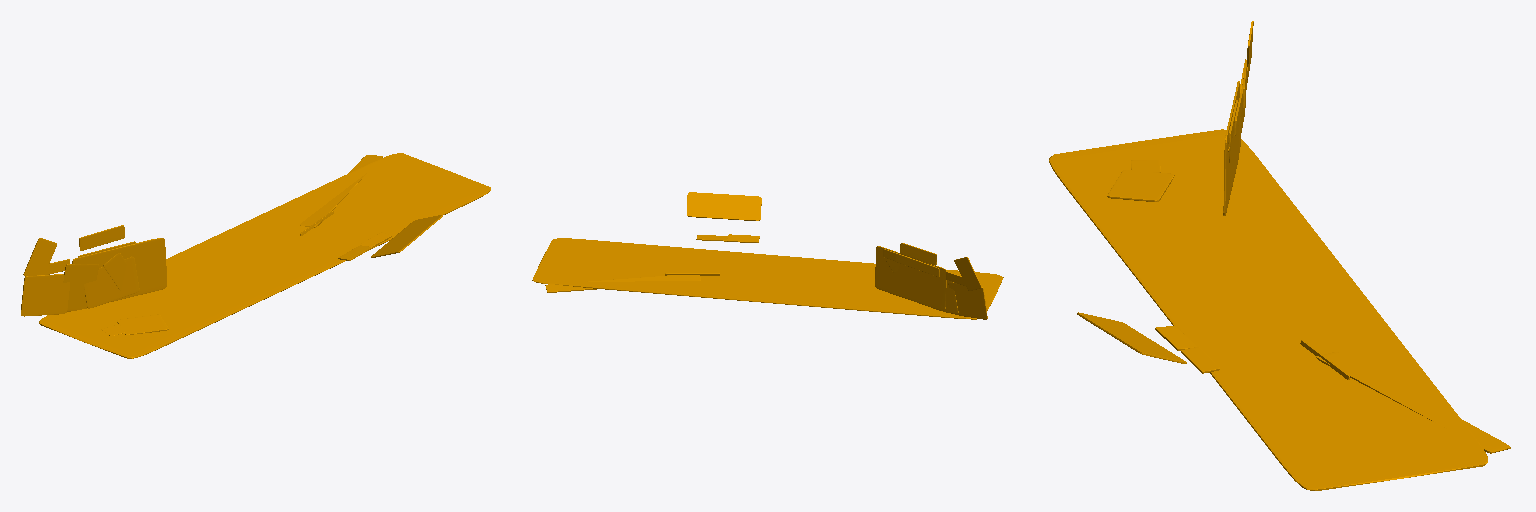
The robot description file, URDF, robot "scene":
<?xml version='1.0' encoding='utf-8'?>
<robot name="scene"><link name="scene_link"><visual><origin xyz="0.000000 0.000000 0.000000" rpy="0.000000 -0.000000 0.000000" /><geometry><mesh filename="part_000.obj" /></geometry></visual><collision><origin xyz="0.000000 0.000000 0.000000" rpy="0.000000 -0.000000 0.000000" /><geometry><mesh filename="part_000.obj" /></geometry></collision><visual><origin xyz="0.000000 0.000000 0.000000" rpy="0.000000 -0.000000 0.000000" /><geometry><mesh filename="part_001.obj" /></geometry></visual><collision><origin xyz="0.000000 0.000000 0.000000" rpy="0.000000 -0.000000 0.000000" /><geometry><mesh filename="part_001.obj" /></geometry></collision><visual><origin xyz="0.000000 0.000000 0.000000" rpy="0.000000 -0.000000 0.000000" /><geometry><mesh filename="part_002.obj" /></geometry></visual><collision><origin xyz="0.000000 0.000000 0.000000" rpy="0.000000 -0.000000 0.000000" /><geometry><mesh filename="part_002.obj" /></geometry></collision><visual><origin xyz="0.000000 0.000000 0.000000" rpy="0.000000 -0.000000 0.000000" /><geometry><mesh filename="part_003.obj" /></geometry></visual><collision><origin xyz="0.000000 0.000000 0.000000" rpy="0.000000 -0.000000 0.000000" /><geometry><mesh filename="part_003.obj" /></geometry></collision><visual><origin xyz="0.000000 0.000000 0.000000" rpy="0.000000 -0.000000 0.000000" /><geometry><mesh filename="part_004.obj" /></geometry></visual><collision><origin xyz="0.000000 0.000000 0.000000" rpy="0.000000 -0.000000 0.000000" /><geometry><mesh filename="part_004.obj" /></geometry></collision><visual><origin xyz="0.000000 0.000000 0.000000" rpy="0.000000 -0.000000 0.000000" /><geometry><mesh filename="part_005.obj" /></geometry></visual><collision><origin xyz="0.000000 0.000000 0.000000" rpy="0.000000 -0.000000 0.000000" /><geometry><mesh filename="part_005.obj" /></geometry></collision><visual><origin xyz="0.000000 0.000000 0.000000" rpy="0.000000 -0.000000 0.000000" /><geometry><mesh filename="part_006.obj" /></geometry></visual><collision><origin xyz="0.000000 0.000000 0.000000" rpy="0.000000 -0.000000 0.000000" /><geometry><mesh filename="part_006.obj" /></geometry></collision><visual><origin xyz="0.000000 0.000000 0.000000" rpy="0.000000 -0.000000 0.000000" /><geometry><mesh filename="part_007.obj" /></geometry></visual><collision><origin xyz="0.000000 0.000000 0.000000" rpy="0.000000 -0.000000 0.000000" /><geometry><mesh filename="part_007.obj" /></geometry></collision><visual><origin xyz="0.000000 0.000000 0.000000" rpy="0.000000 -0.000000 0.000000" /><geometry><mesh filename="part_008.obj" /></geometry></visual><collision><origin xyz="0.000000 0.000000 0.000000" rpy="0.000000 -0.000000 0.000000" /><geometry><mesh filename="part_008.obj" /></geometry></collision><visual><origin xyz="0.000000 0.000000 0.000000" rpy="0.000000 -0.000000 0.000000" /><geometry><mesh filename="part_009.obj" /></geometry></visual><collision><origin xyz="0.000000 0.000000 0.000000" rpy="0.000000 -0.000000 0.000000" /><geometry><mesh filename="part_009.obj" /></geometry></collision><visual><origin xyz="0.000000 0.000000 0.000000" rpy="0.000000 -0.000000 0.000000" /><geometry><mesh filename="part_010.obj" /></geometry></visual><collision><origin xyz="0.000000 0.000000 0.000000" rpy="0.000000 -0.000000 0.000000" /><geometry><mesh filename="part_010.obj" /></geometry></collision><visual><origin xyz="0.000000 0.000000 0.000000" rpy="0.000000 -0.000000 0.000000" /><geometry><mesh filename="part_011.obj" /></geometry></visual><collision><origin xyz="0.000000 0.000000 0.000000" rpy="0.000000 -0.000000 0.000000" /><geometry><mesh filename="part_011.obj" /></geometry></collision><visual><origin xyz="0.000000 0.000000 0.000000" rpy="0.000000 -0.000000 0.000000" /><geometry><mesh filename="part_012.obj" /></geometry></visual><collision><origin xyz="0.000000 0.000000 0.000000" rpy="0.000000 -0.000000 0.000000" /><geometry><mesh filename="part_012.obj" /></geometry></collision><visual><origin xyz="0.000000 0.000000 0.000000" rpy="0.000000 -0.000000 0.000000" /><geometry><mesh filename="part_013.obj" /></geometry></visual><collision><origin xyz="0.000000 0.000000 0.000000" rpy="0.000000 -0.000000 0.000000" /><geometry><mesh filename="part_013.obj" /></geometry></collision><visual><origin xyz="0.000000 0.000000 0.000000" rpy="0.000000 -0.000000 0.000000" /><geometry><mesh filename="part_014.obj" /></geometry></visual><collision><origin xyz="0.000000 0.000000 0.000000" rpy="0.000000 -0.000000 0.000000" /><geometry><mesh filename="part_014.obj" /></geometry></collision><visual><origin xyz="0.000000 0.000000 0.000000" rpy="0.000000 -0.000000 0.000000" /><geometry><mesh filename="part_015.obj" /></geometry></visual><collision><origin xyz="0.000000 0.000000 0.000000" rpy="0.000000 -0.000000 0.000000" /><geometry><mesh filename="part_015.obj" /></geometry></collision><visual><origin xyz="0.000000 0.000000 0.000000" rpy="0.000000 -0.000000 0.000000" /><geometry><mesh filename="part_016.obj" /></geometry></visual><collision><origin xyz="0.000000 0.000000 0.000000" rpy="0.000000 -0.000000 0.000000" /><geometry><mesh filename="part_016.obj" /></geometry></collision><visual><origin xyz="0.000000 0.000000 0.000000" rpy="0.000000 -0.000000 0.000000" /><geometry><mesh filename="part_017.obj" /></geometry></visual><collision><origin xyz="0.000000 0.000000 0.000000" rpy="0.000000 -0.000000 0.000000" /><geometry><mesh filename="part_017.obj" /></geometry></collision><visual><origin xyz="0.000000 0.000000 0.000000" rpy="0.000000 -0.000000 0.000000" /><geometry><mesh filename="part_018.obj" /></geometry></visual><collision><origin xyz="0.000000 0.000000 0.000000" rpy="0.000000 -0.000000 0.000000" /><geometry><mesh filename="part_018.obj" /></geometry></collision></link></robot>

--- Facts derived from the render (not from the file) ---
The picture shows the robot from 3 angles, left to right: view 1: azimuth 30°, elevation 25°; view 2: azimuth 150°, elevation 25°; view 3: azimuth 270°, elevation 25°; orthographic projection.
Model scene with 1 links and 0 joints (none), rooted at scene_link, posed all joints at 0.
Links seen in each view (by area): view 1: scene_link; view 2: scene_link; view 3: scene_link.
Boxes of the visible links, <box> form: scene_link: <box>21,153,490,358</box>; scene_link: <box>532,192,1003,319</box>; scene_link: <box>1049,21,1510,490</box>.
Size in the robot's own frame: 15.5 by 8.28 by 2.43 metres.
Meshes: 19 distinct files referenced, 19 mesh visuals loaded (19 OBJ).